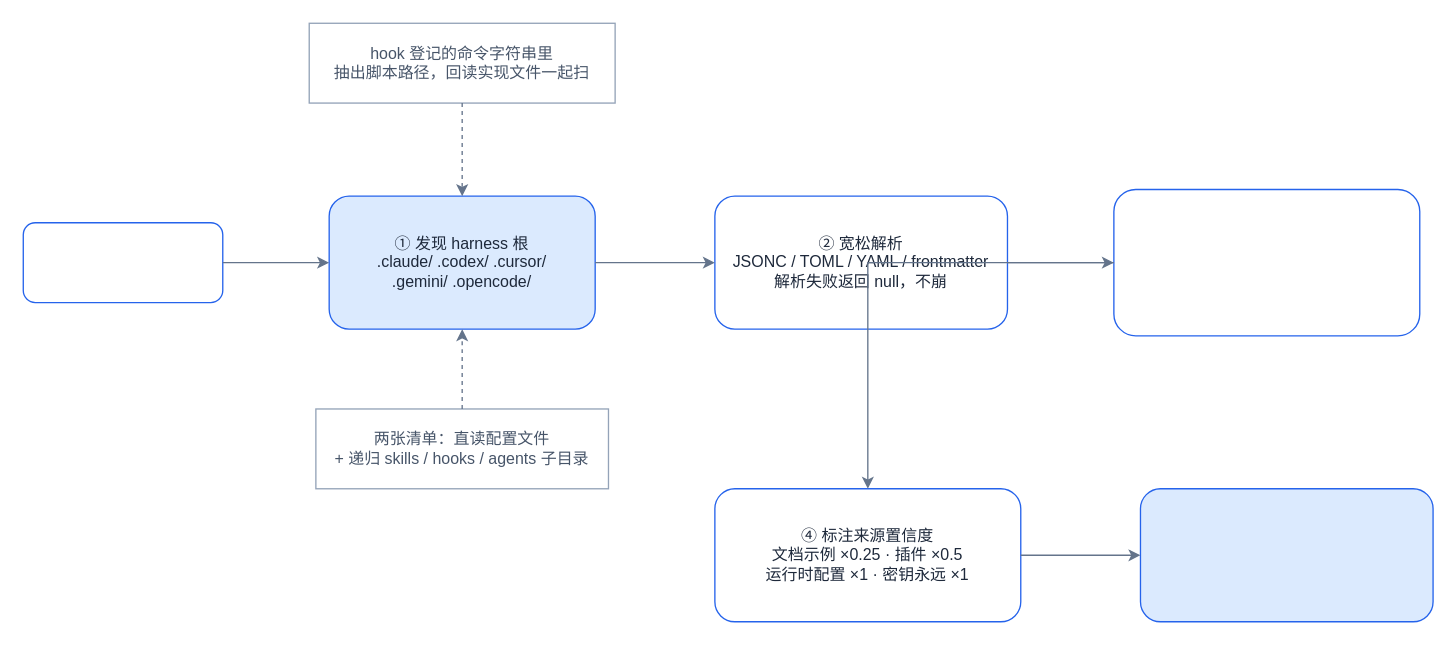
This 1456x645 diagram has some shape labels left out. Each missing label, with the box of its shape:
scan 目标目录: (22, 221, 223, 303)
③ 268 条规则 × 每个文件 每条规则一个带严重度的检查函数 纯静态 · 确定性 · 零 API: (1113, 188, 1420, 336)
⑤ 评分与报告 五类只减不增，0–100 分 / A–F terminal / json / sarif / html: (1139, 487, 1433, 622)
